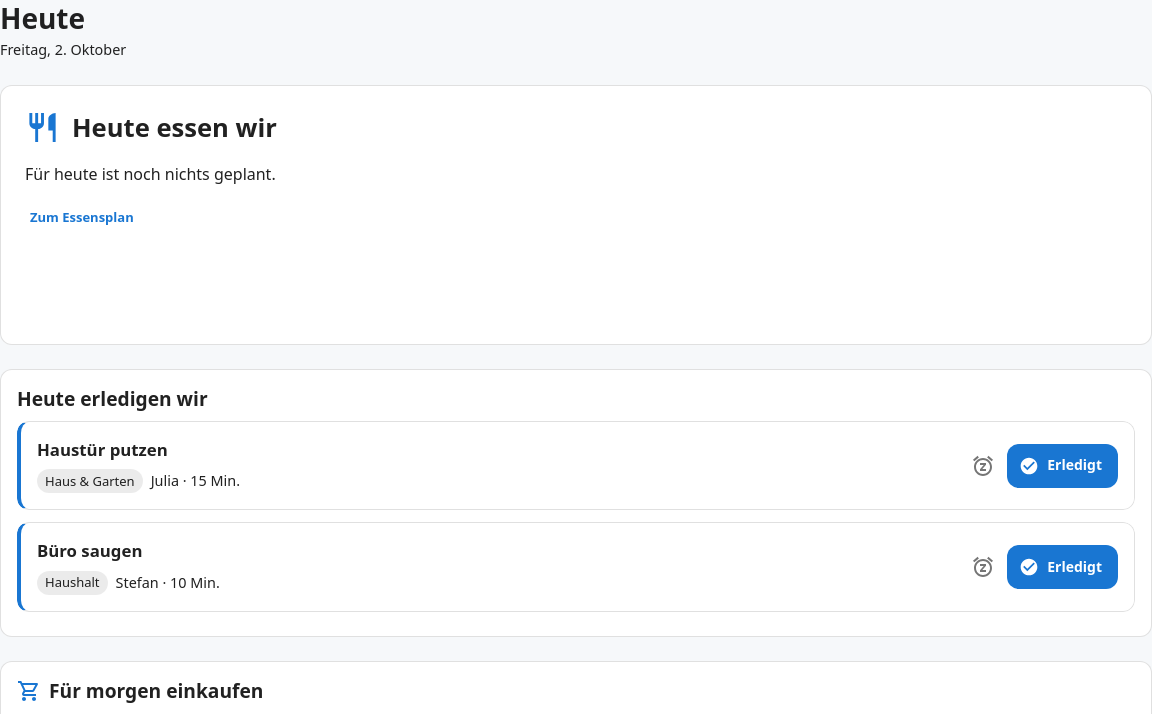
Snooze on the dashboard › disables dates that are not in the future
Click the button named "„Büro saugen“ verschieben". click: [983, 567]
box: top-left (963, 547), bottom-right (1003, 587)
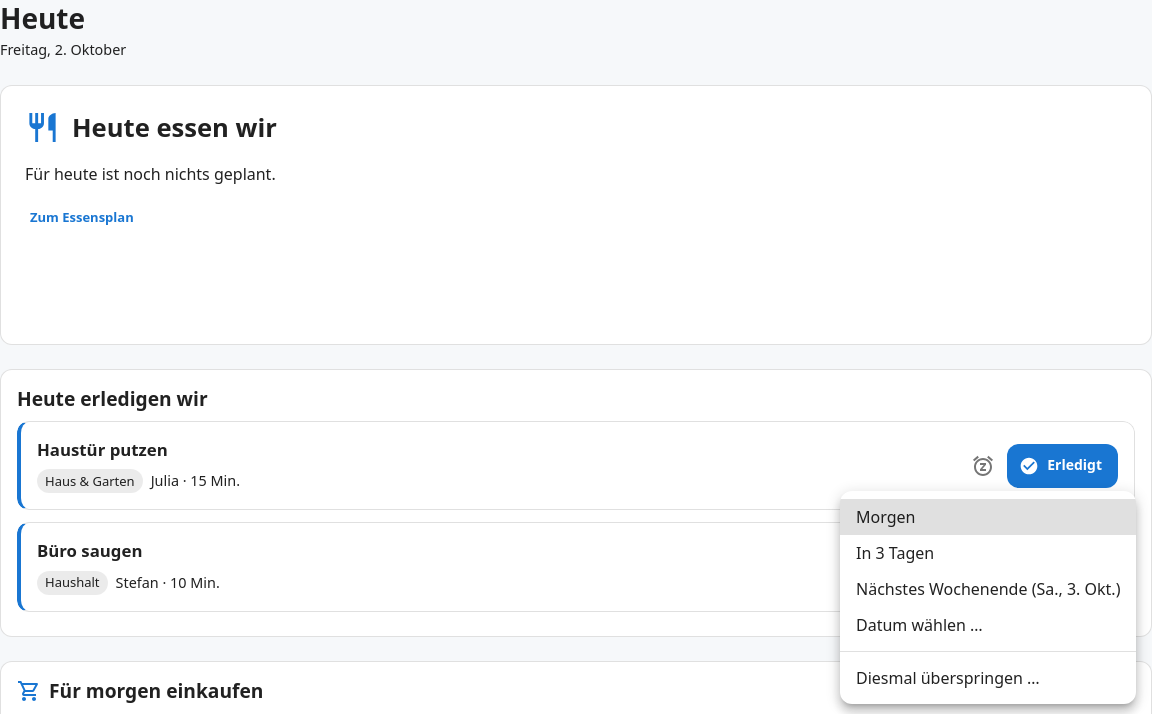
Click the menu item "Datum wählen …". click: [919, 625]
box: top-left (856, 614), bottom-right (983, 636)
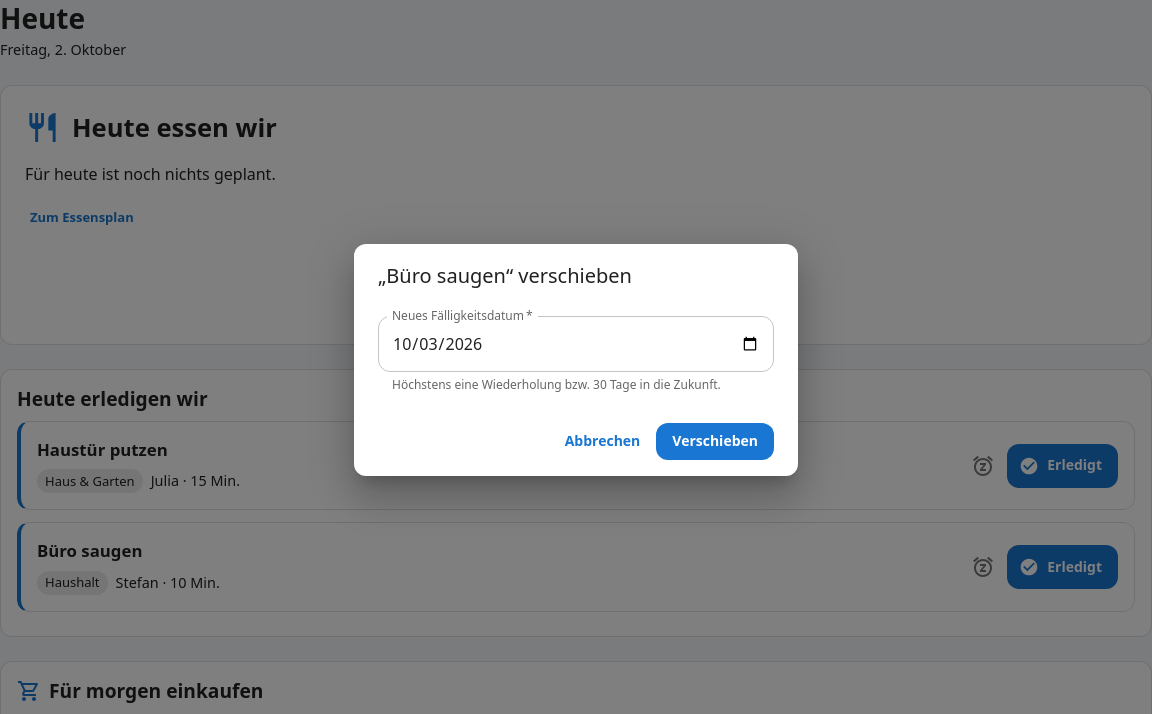
Type "2026-10-02" into the date field labelled "Neues Fälligkeitsdatum *". click: [576, 344]
box: top-left (378, 316), bottom-right (774, 372)
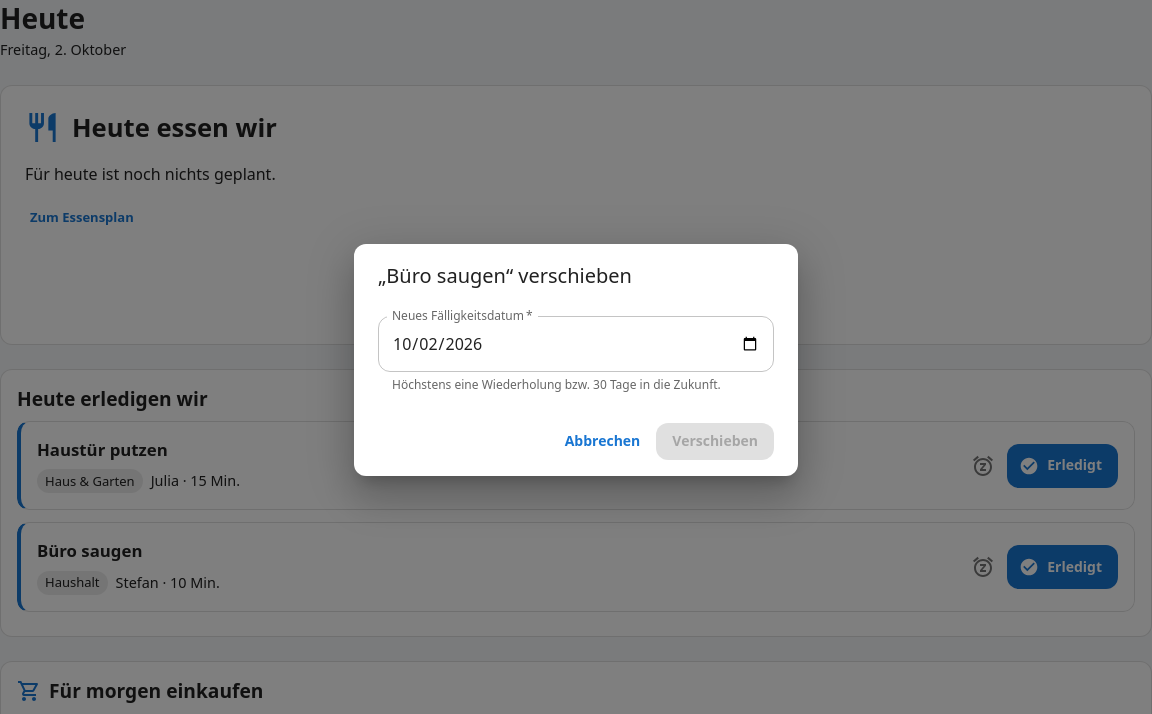
expect the button "Verschieben" is disabled: met, box top-left (656, 423), bottom-right (774, 460)
